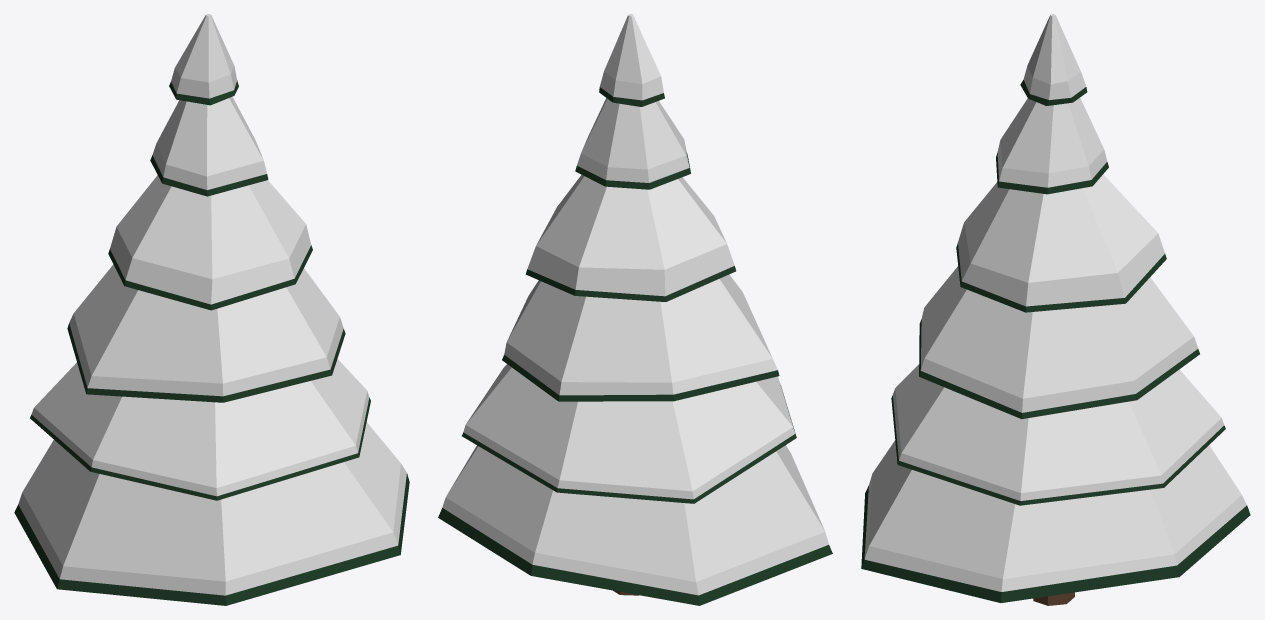
Rendered from tree_snowed02.glb.
3 views of the same model, side by side, from view 1: azimuth 30°, elevation 25°; view 2: azimuth 150°, elevation 25°; view 3: azimuth 270°, elevation 25° (orthographic).
Visible parts, largest first — view 1: Cylinder; view 2: Cylinder; view 3: Cylinder.
Boxes of the visible parts, left/top/right/bottom form: Cylinder: left=14, top=14, right=409, bottom=605; Cylinder: left=438, top=14, right=832, bottom=605; Cylinder: left=861, top=14, right=1250, bottom=605.
Size of the model in its own units: 1.89 by 2.93 by 1.77.
